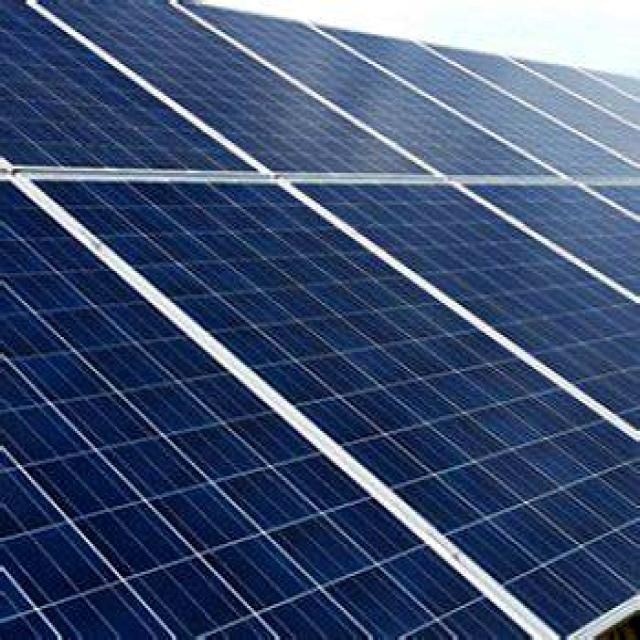crack: (16, 168, 640, 640), (3, 170, 590, 640), (38, 0, 429, 223), (181, 0, 561, 212), (0, 0, 287, 256)
